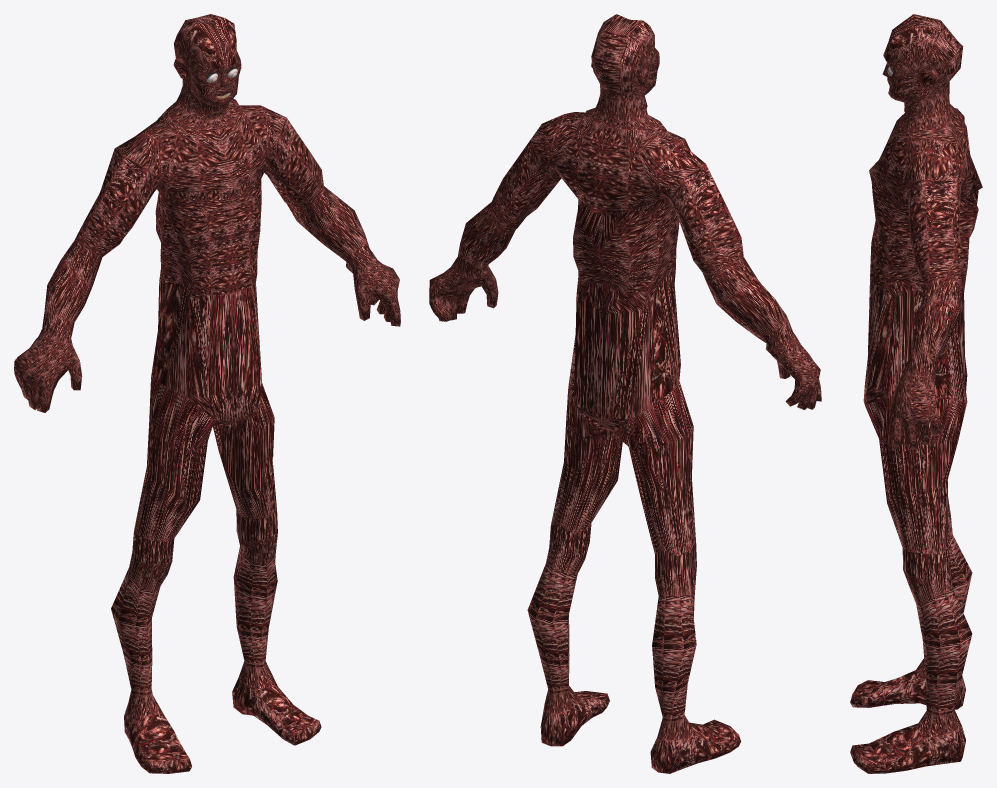
The model's file is kaleb.glb.
The picture shows the model from 3 angles, left to right: view 1: azimuth 30°, elevation 25°; view 2: azimuth 150°, elevation 25°; view 3: azimuth 270°, elevation 25°; orthographic projection.
Parts seen in each view (by area): view 1: kaleb; view 2: kaleb; view 3: kaleb.
Part boxes in pixels (x1,y1,x2,y2): kaleb: (14,14,400,773); kaleb: (429,14,821,773); kaleb: (850,14,982,773).
Size of the model in its own units: 3.97 by 7.15 by 1.21.
4 materials, 4 textured.
